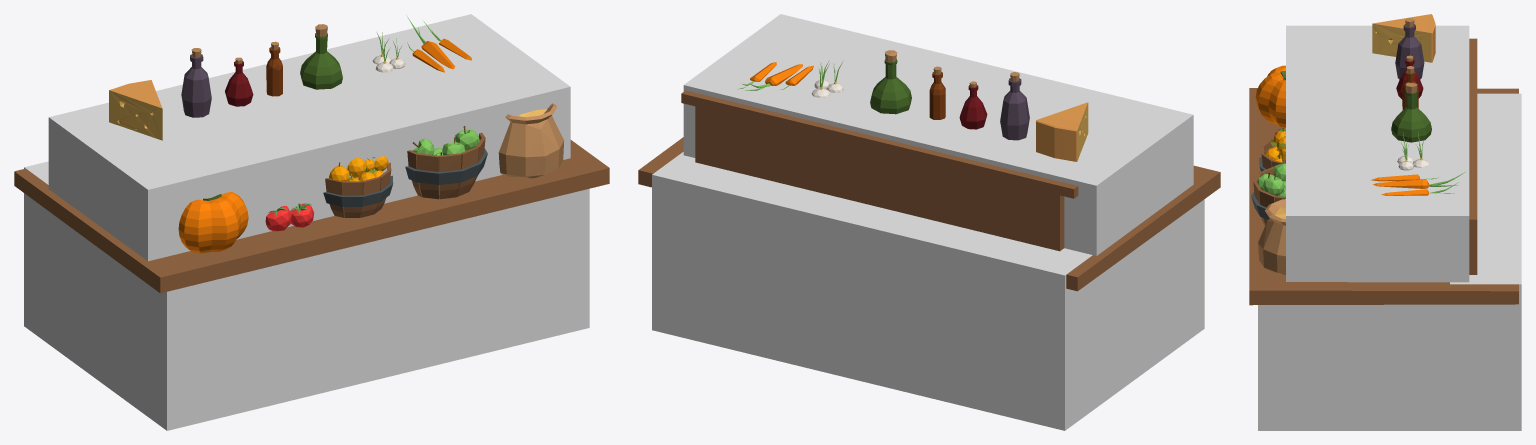
File: market_table_3.glb
The picture shows the model from 3 angles, left to right: view 1: azimuth 30°, elevation 25°; view 2: azimuth 150°, elevation 25°; view 3: azimuth 270°, elevation 25°; orthographic projection. The views are drawn at different scales.
Visible parts, largest first — view 1: Cube.001, Cube.002, Market_Table_03; view 2: Cube.001, Cube.002, Market_Table_03; view 3: Cube.001, Cube.002, Market_Table_03.
Boxes of the visible parts, x1,y1,x2,y2 form: Cube.001: (24,161,589,430); Cube.002: (48,14,570,261); Market_Table_03: (14,15,609,293); Cube.001: (652,152,1204,430); Cube.002: (683,14,1193,255); Market_Table_03: (638,50,1220,291); Cube.001: (1258,93,1521,430); Cube.002: (1286,25,1469,282); Market_Table_03: (1249,14,1518,305).
Size of the model in its own units: 2.12 by 1.32 by 1.2.
Materials: 1 (1 with a texture image).
